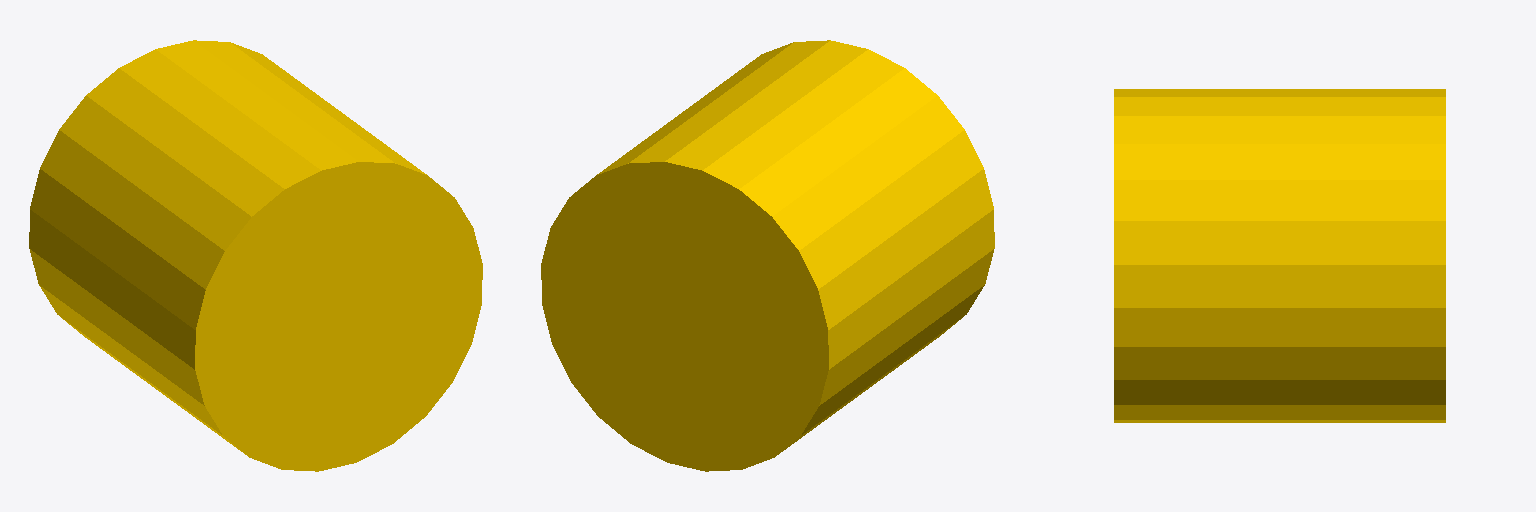
File: Yelow_Switch.obj
3 views of the same model, side by side, from view 1: azimuth 30°, elevation 25°; view 2: azimuth 150°, elevation 25°; view 3: azimuth 270°, elevation 25° (orthographic).
Parts seen in each view (by area): view 1: Mesh1 Group1 Model; view 2: Mesh1 Group1 Model; view 3: Mesh1 Group1 Model.
Part boxes in pixels (x1,y1,x2,y2): Mesh1 Group1 Model: (29,40,482,471); Mesh1 Group1 Model: (541,40,994,471); Mesh1 Group1 Model: (1114,89,1445,422).
Bounding box in the file's own units: 5.12 × 5.12 × 5.12.